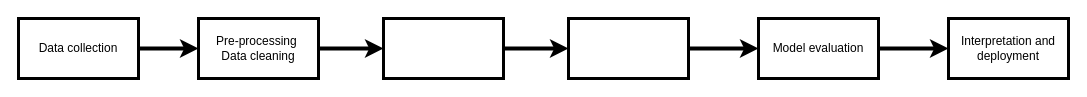
Image size: 1087x97. Some labels were removed from this diagram. The shapes that lost their labels are listed below. From the top down, each one's centre as x and y in pixels, then its label:
pixel 443 48: Feature engineering
pixel 628 48: Model training
